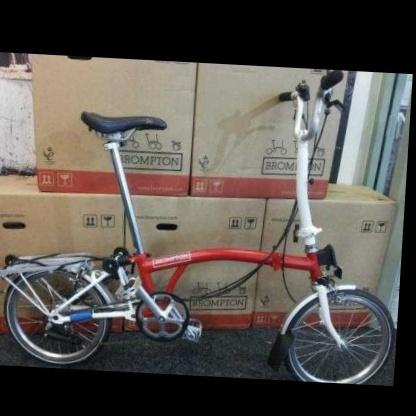Bicycle: (1, 63, 400, 375)
